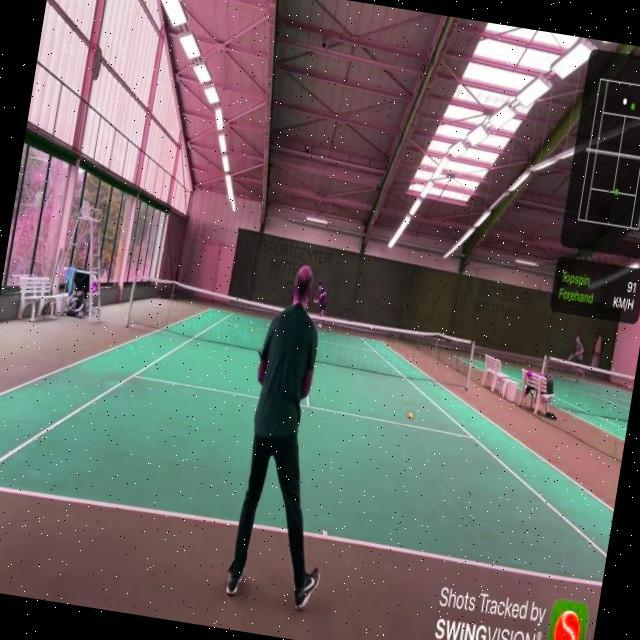court: (0, 275, 635, 588)
net: (123, 274, 480, 388)
player: (219, 261, 368, 614)
